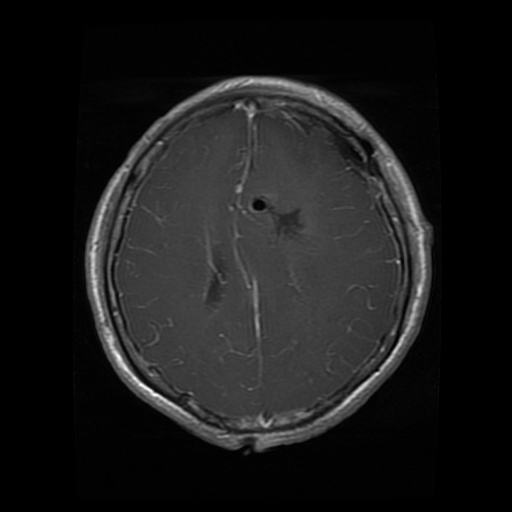glioma: (272, 207, 303, 239)
